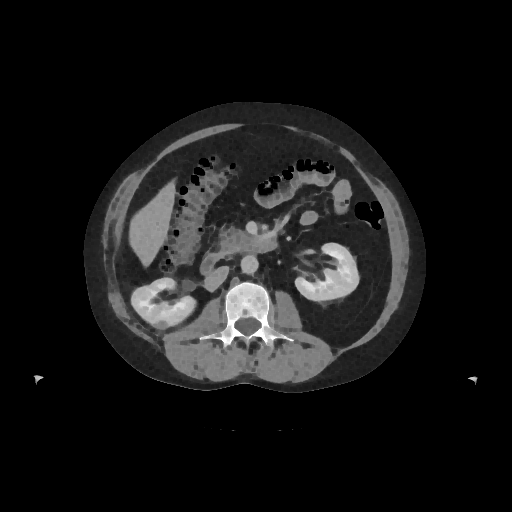Lesion: (151, 318, 173, 332)
